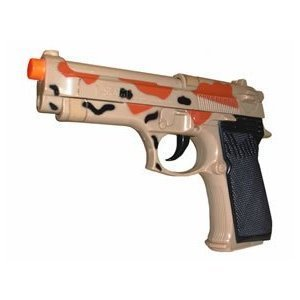Arma Falsa: (26, 47, 274, 252)
